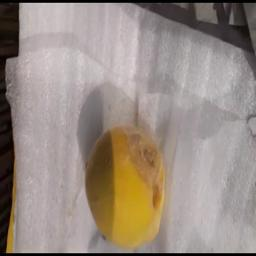Peach Rotten: (78, 118, 184, 248)
